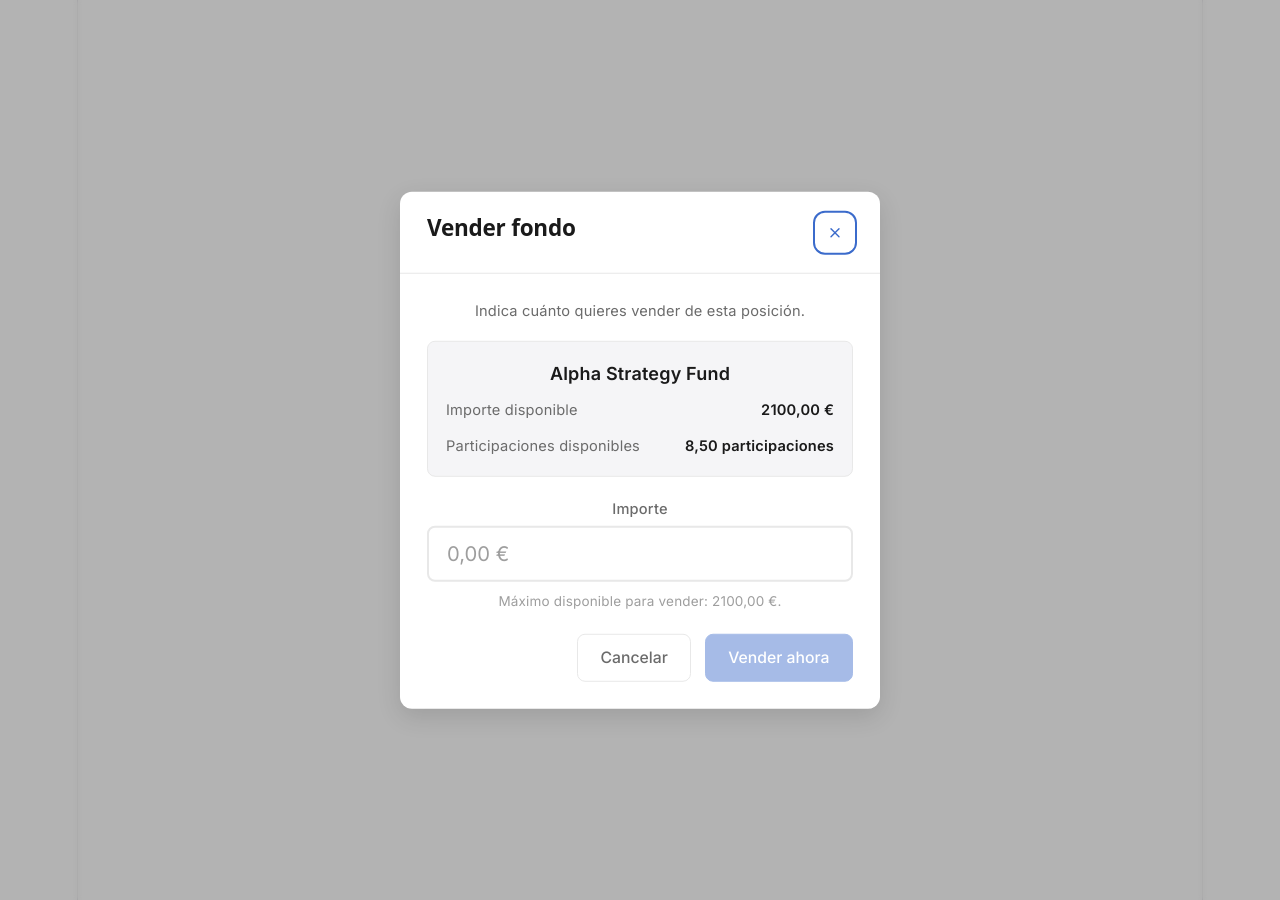
SellDialog › submits successfully, invalidates portfolio and funds, and closes the dialog
Step 1. Type "1050" into the field labelled "Importe" → (640, 554), box [427,526,853,582]
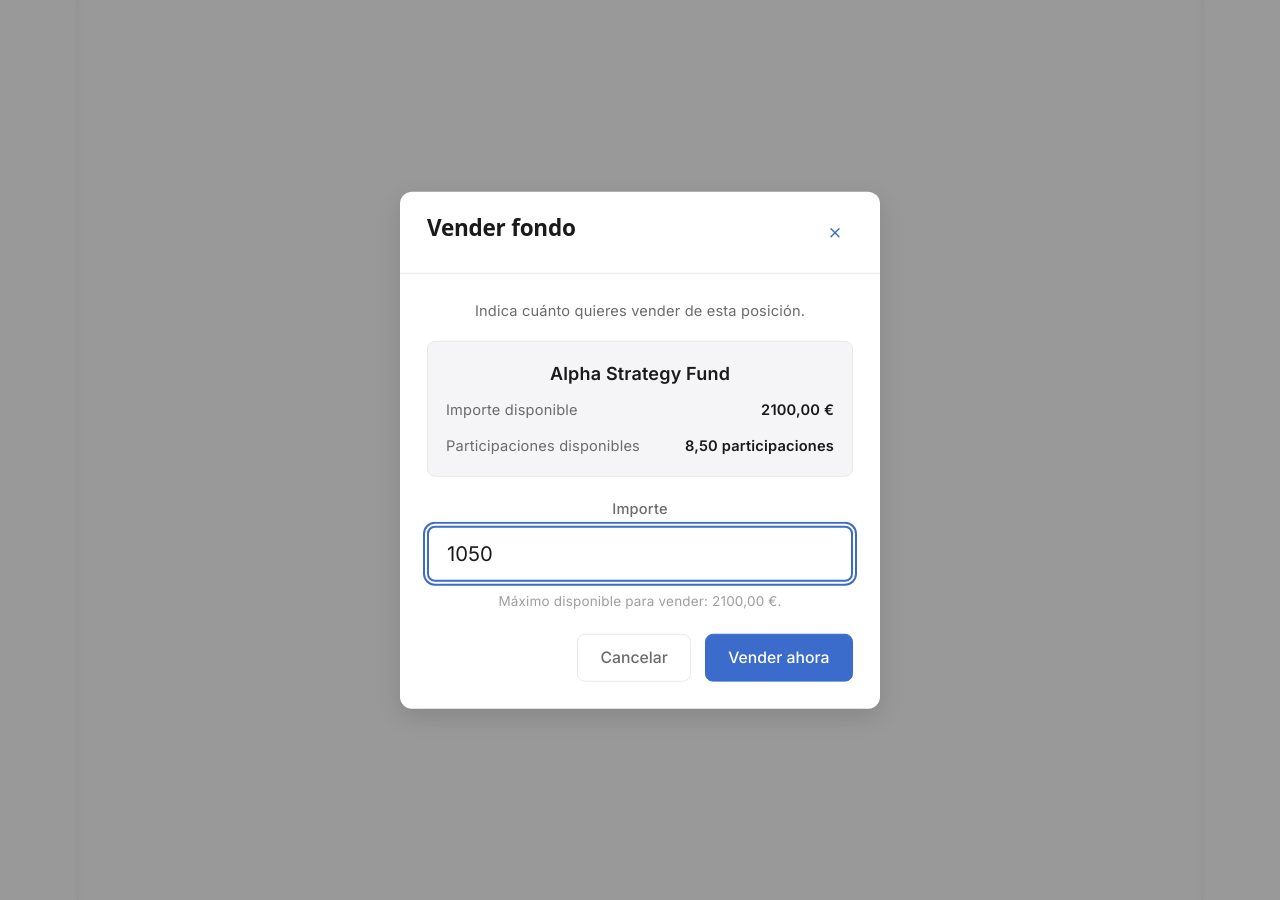
Step 2. Click the button "Vender ahora" → (779, 657), box [705,633,853,681]
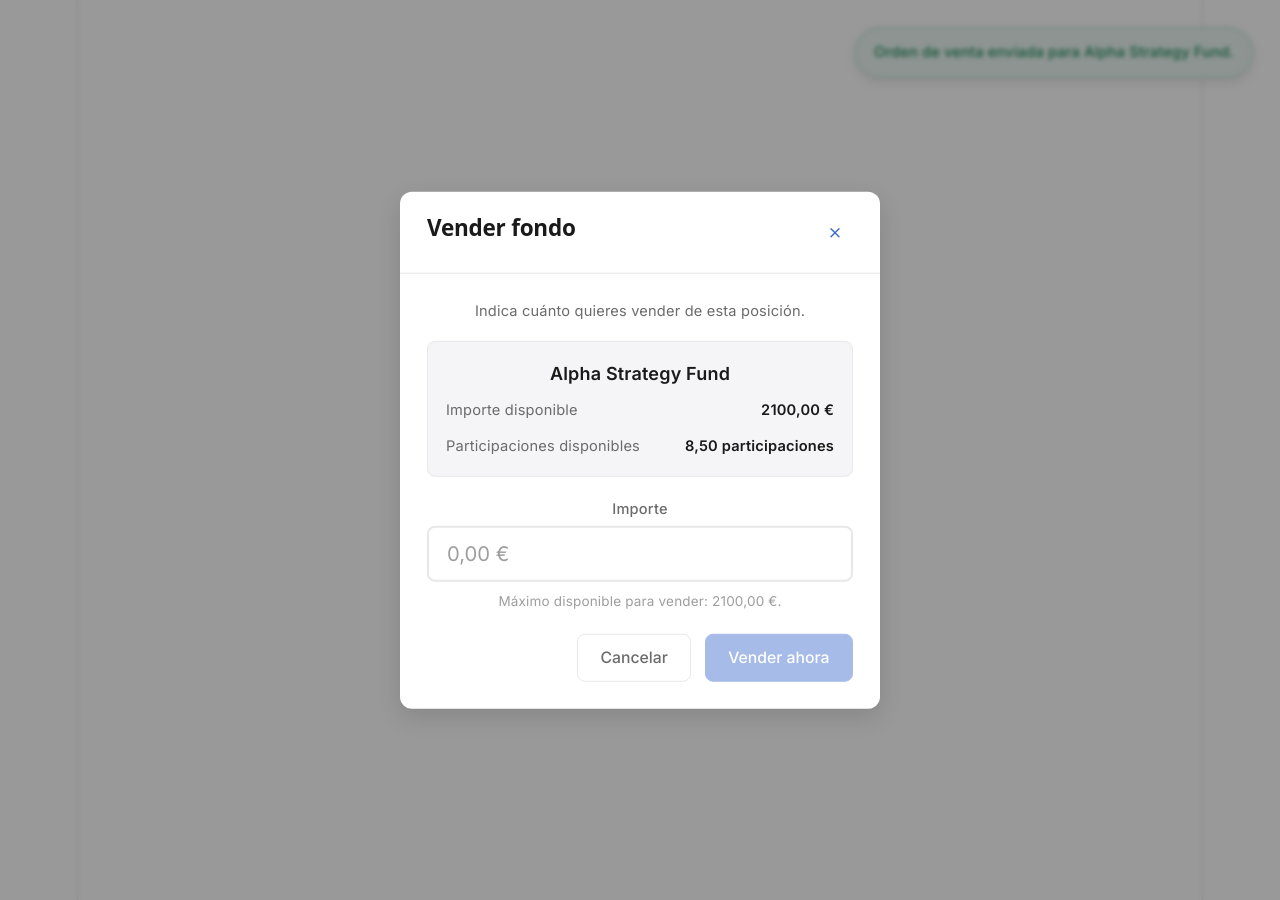
Check: the message reads "Orden de venta enviada para Alpha Strategy Fund.", box [874,42,1234,60]
